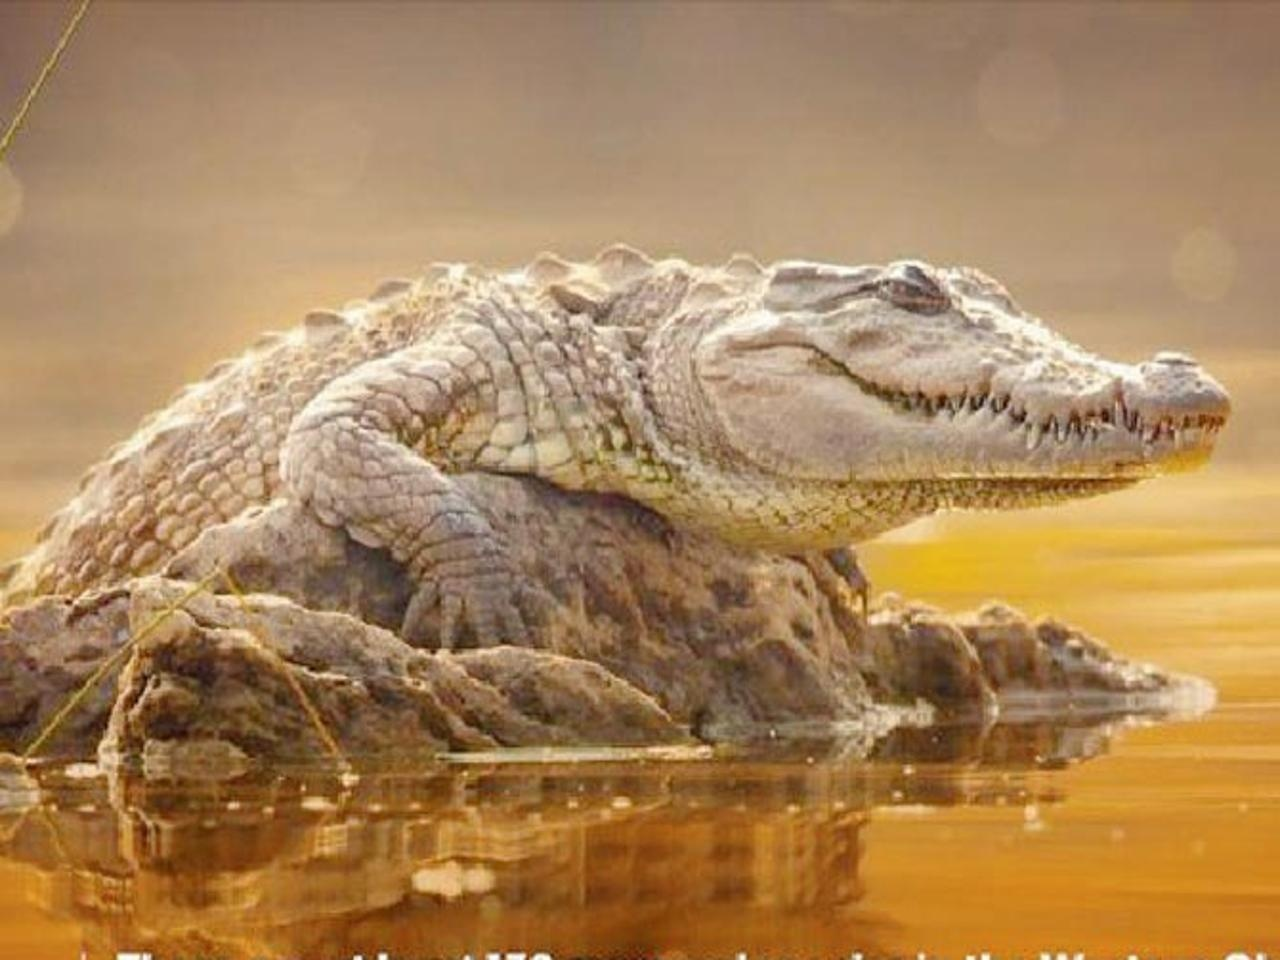crocodile: (1, 237, 1242, 656)
